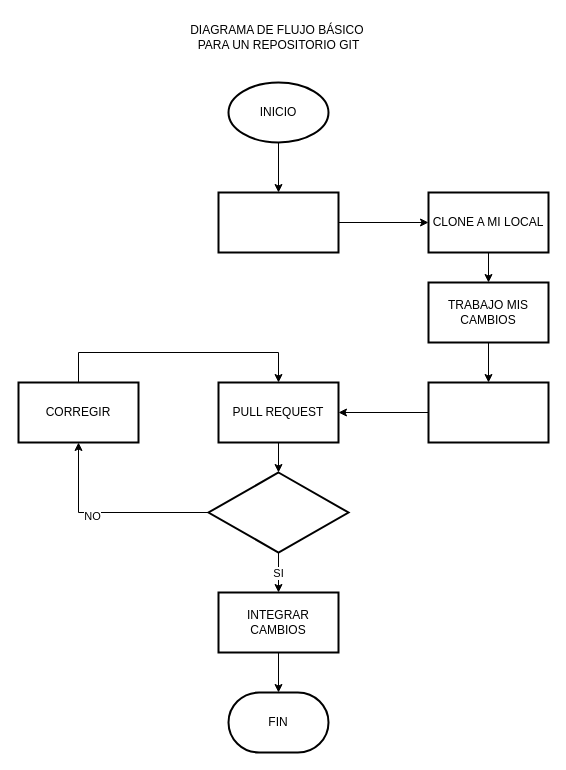
This 566x770 diagram has some shape labels left out. Here are the shapes that lost their labels. From the top down, the box of each, then its label:
(217, 191, 339, 253): FORK A MI REPOSITORIO
(427, 381, 549, 443): SUBO MIS CAMBIOS
(207, 471, 349, 553): ¿APROBADO?
